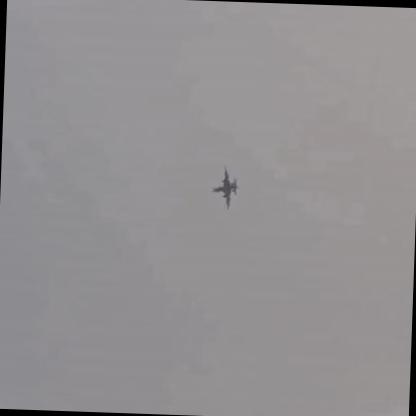plane: (209, 161, 241, 210)
